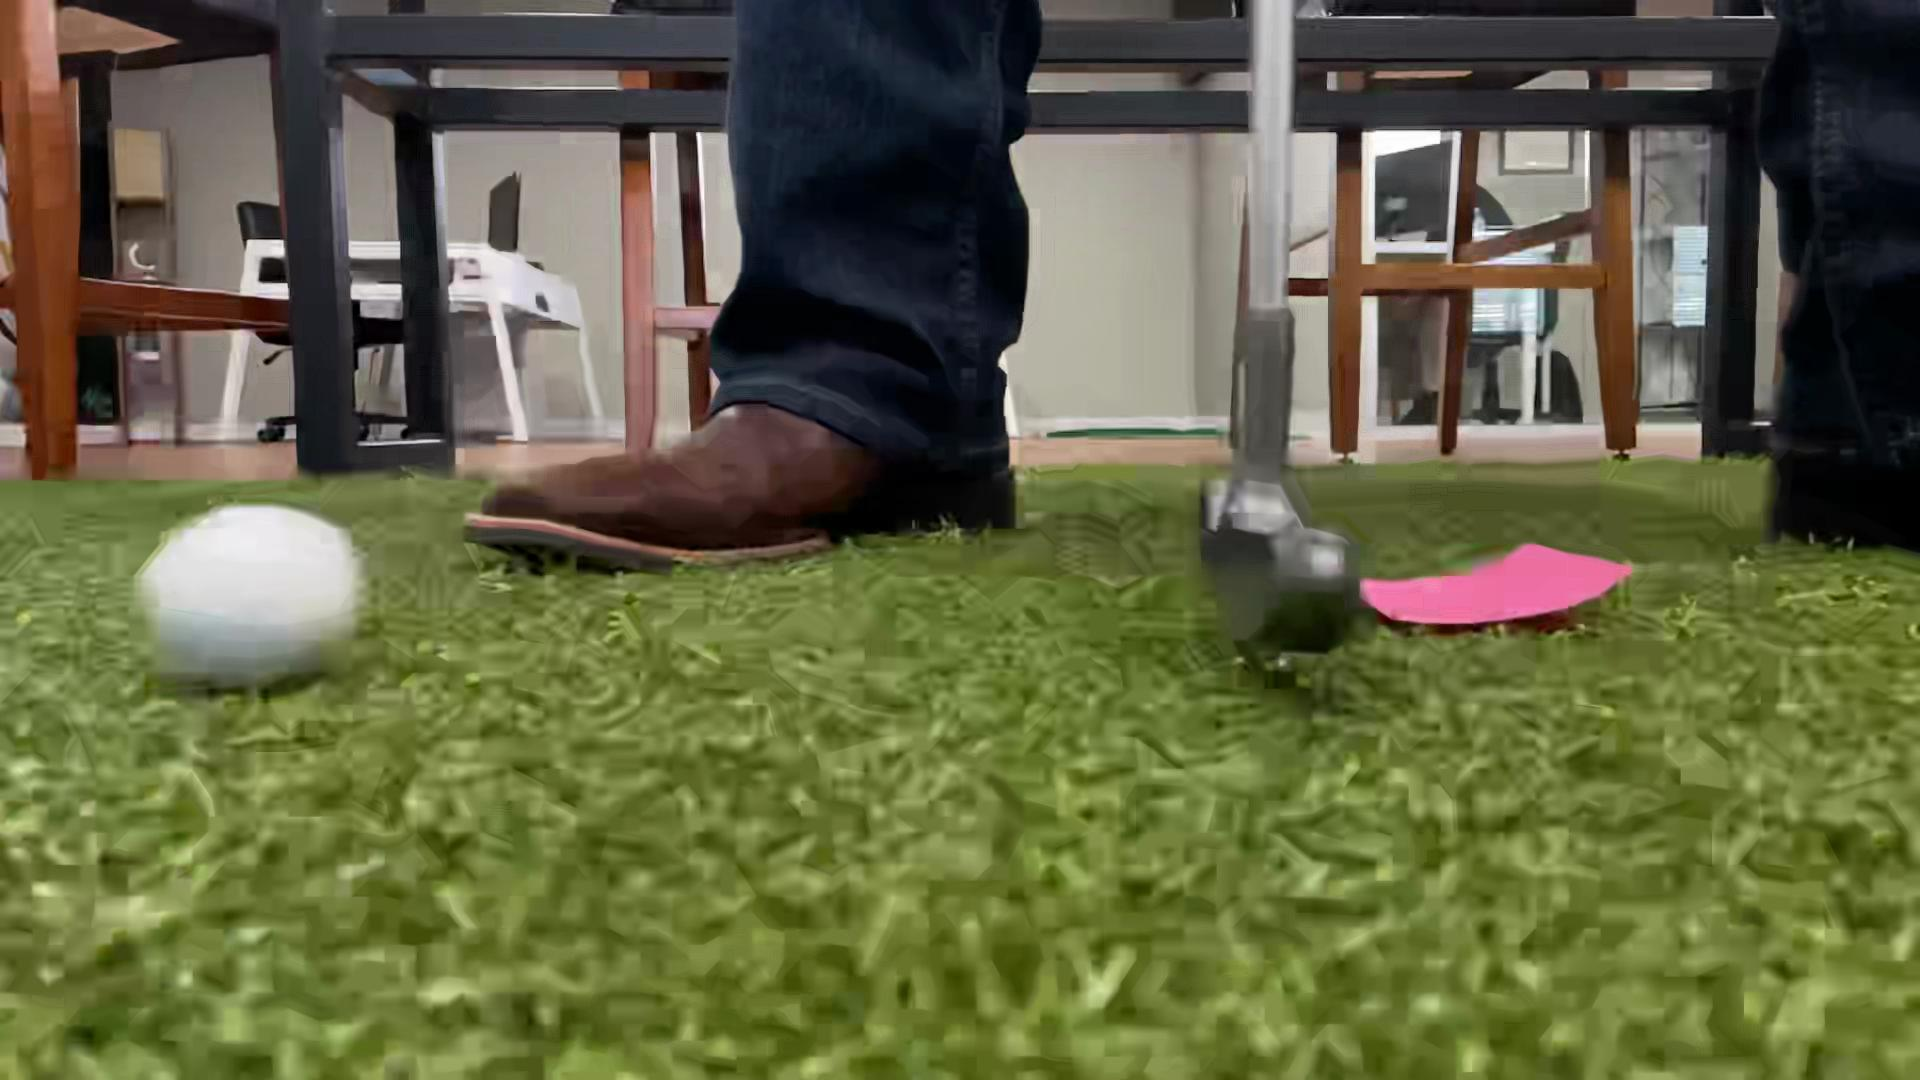golfball: (131, 506, 364, 684)
